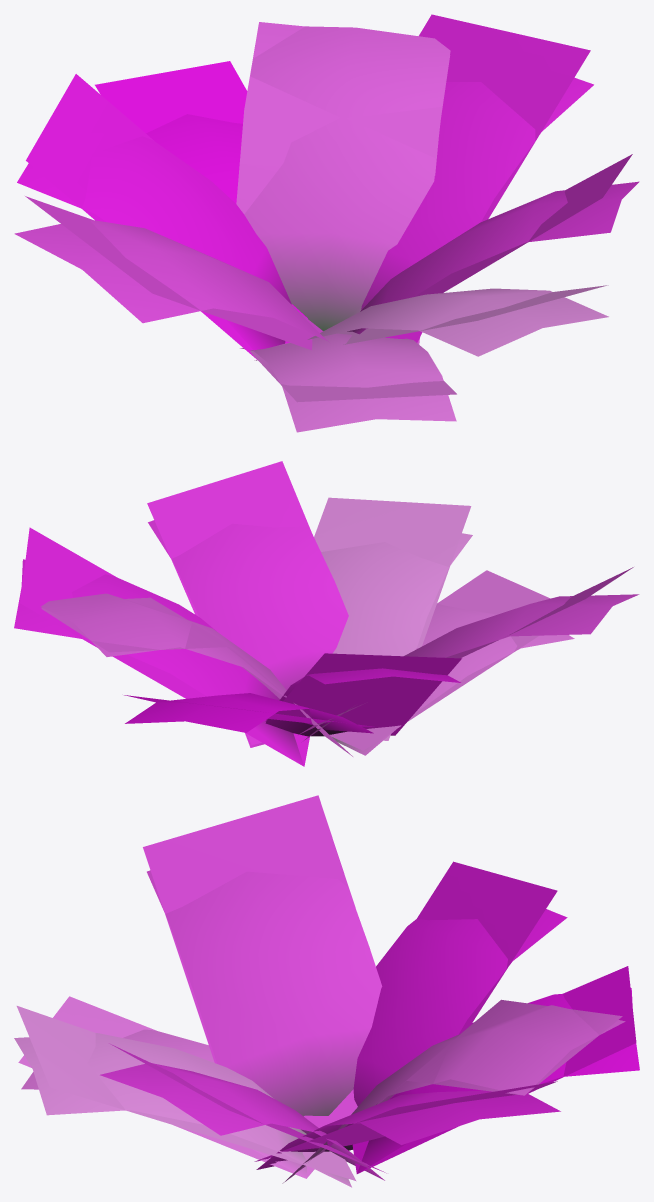
The model's file is fern_01_c.dae.
The picture shows the model from 3 angles, top to bottom: view 1: azimuth 30°, elevation 25°; view 2: azimuth 150°, elevation 25°; view 3: azimuth 270°, elevation 25°; orthographic projection. The views are drawn at different scales.
Visible parts, largest first — view 1: fern200, fern4; view 2: fern200, fern4; view 3: fern200, fern4.
Boxes of the visible parts, x1,y1,x2,y2 form: fern200: (14,26,639,432); fern4: (25,14,632,402); fern200: (14,520,639,766); fern4: (20,461,633,766); fern200: (14,870,639,1187); fern4: (16,795,636,1182).
Bounding box in the file's own units: 1.61 × 1.49 × 0.5824.
